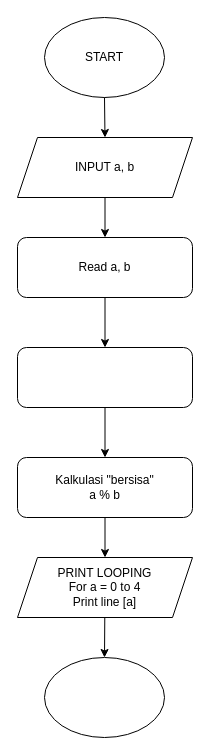
The diagram is 210 pixels wide and 755 high, and some of its shapes have lost their labels. The shapes that lost their labels are listed below. From the top down, each one's centre as x and y in pixels, then its label:
(104,377): Kalkulasi "masing-masing" a / b
(104,697): END
